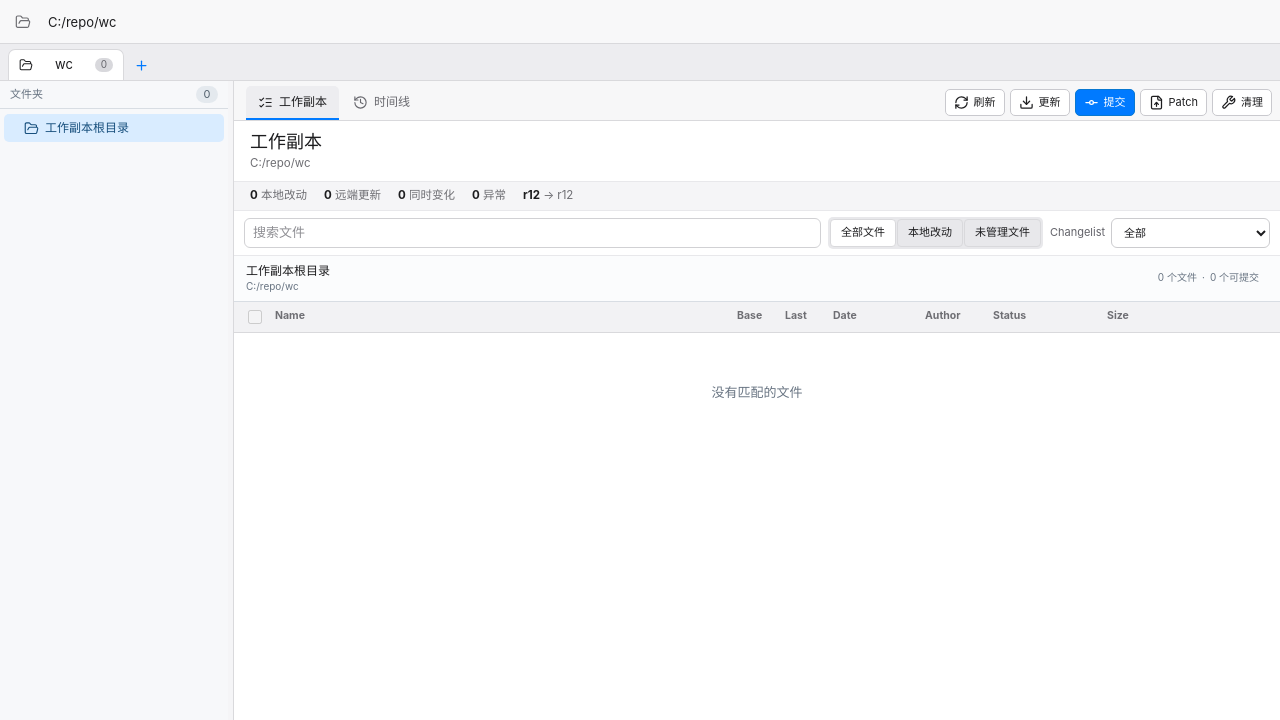
Scenario: App SVN operation completion › 从左侧添加本地工作副本并保留原副本
Click the button named "添加工作副本": (141, 64) [126,49,156,80]
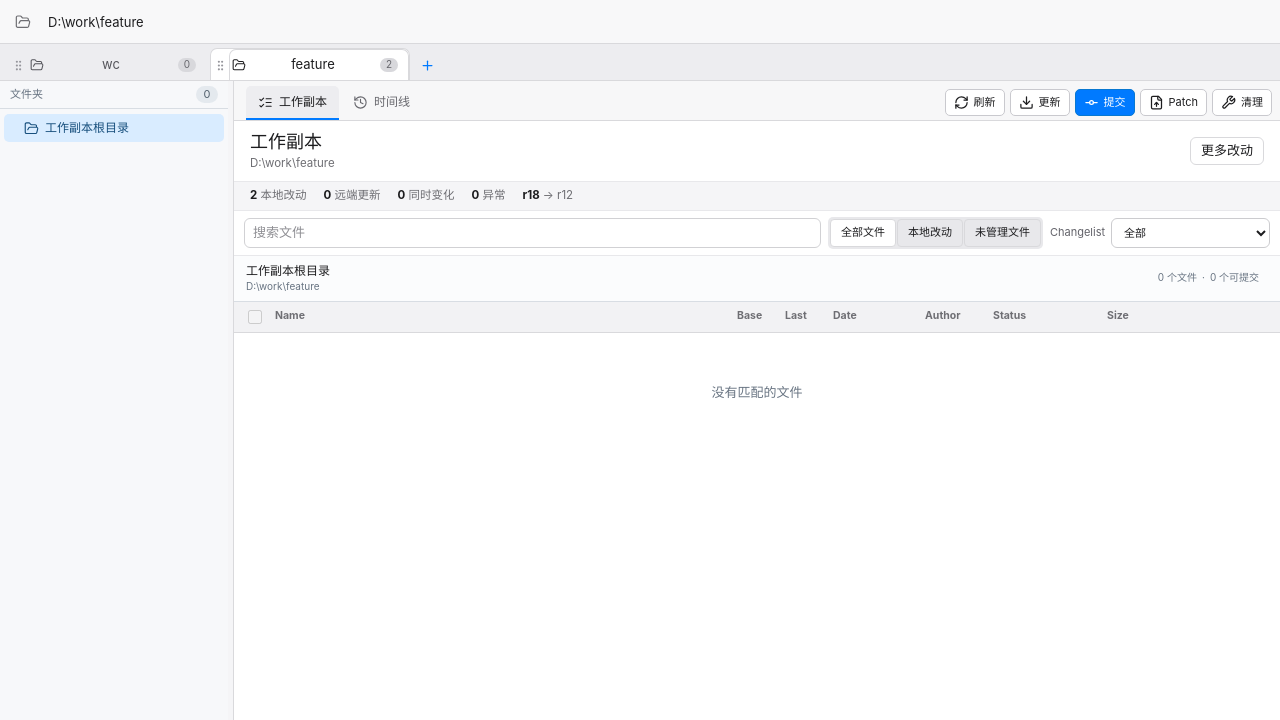
Check: the text "wc" is shown, box [102,56,120,72]
Check: the text "feature" is shown, box [291,56,335,72]
